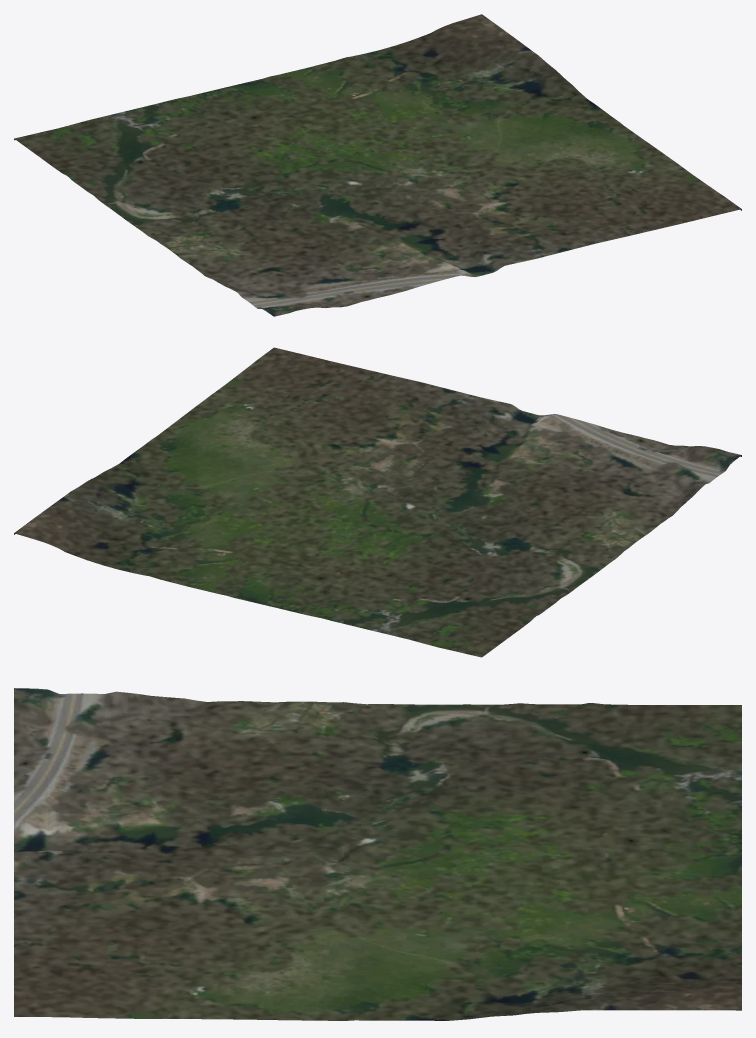
3 renders of one model, top to bottom at view 1: azimuth 30°, elevation 25°; view 2: azimuth 150°, elevation 25°; view 3: azimuth 270°, elevation 25°, orthographic. The views are drawn at different scales.
Bounding box in the file's own units: 250 × 7.87 × 241.
Materials: 1 (1 with a texture image).
